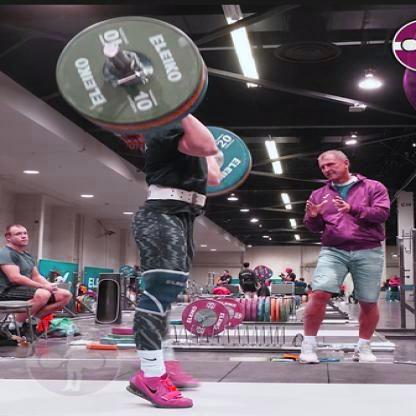Barbell: (101, 41, 122, 59)
